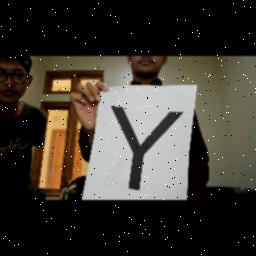y: (105, 102, 187, 194)
